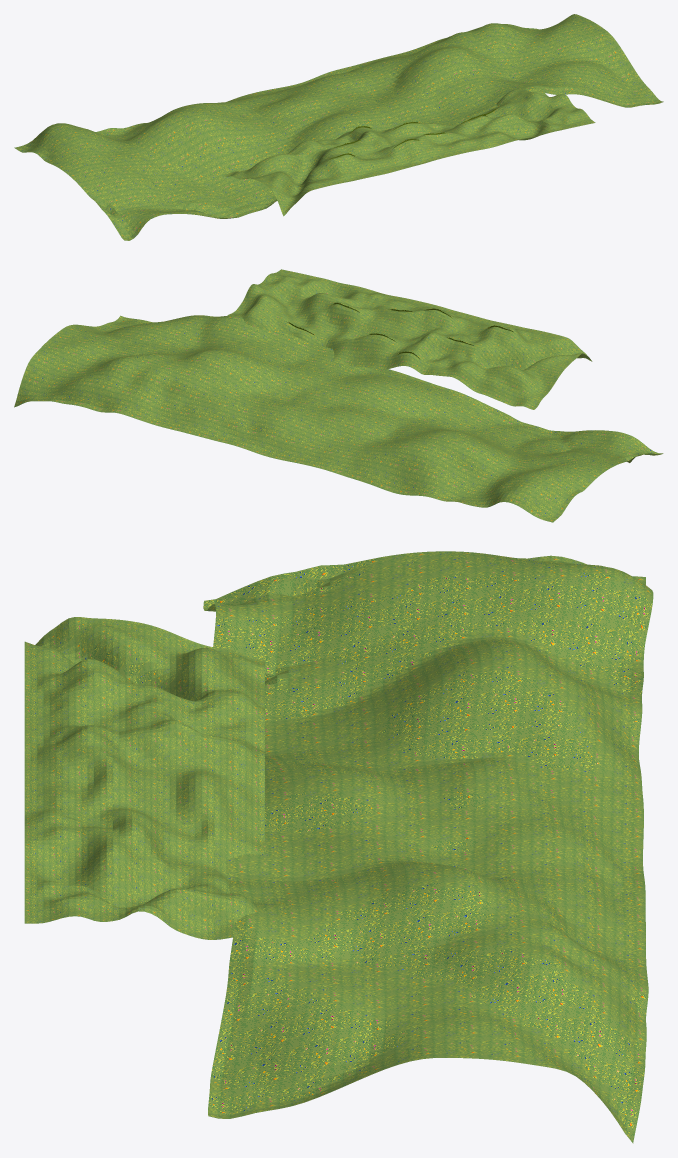
Rendered from Hill.obj.
3 views of the same model, one above another, from view 1: azimuth 30°, elevation 25°; view 2: azimuth 150°, elevation 25°; view 3: azimuth 270°, elevation 25° (orthographic). The views are drawn at different scales.
Parts seen in each view (by area): view 1: Landscape_Back_Grid.003, Landscape_Front_Grid.001; view 2: Landscape_Back_Grid.003, Landscape_Front_Grid.001; view 3: Landscape_Back_Grid.003, Landscape_Front_Grid.001.
Boxes of the visible parts, x1=… form: Landscape_Back_Grid.003: x1=14, y1=14, x2=663, y2=240; Landscape_Front_Grid.001: x1=224, y1=89, x2=595, y2=216; Landscape_Back_Grid.003: x1=14, y1=315, x2=663, y2=522; Landscape_Front_Grid.001: x1=227, y1=269, x2=592, y2=409; Landscape_Back_Grid.003: x1=203, y1=551, x2=653, y2=1143; Landscape_Front_Grid.001: x1=24, y1=617, x2=264, y2=939.
Bounding box in the file's own units: 2078 × 253 × 1047.
